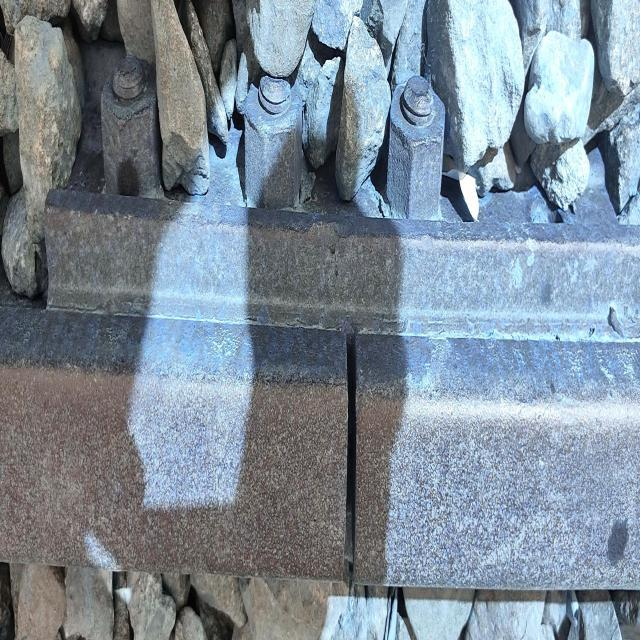Defective Joint: (45, 82, 640, 341)
